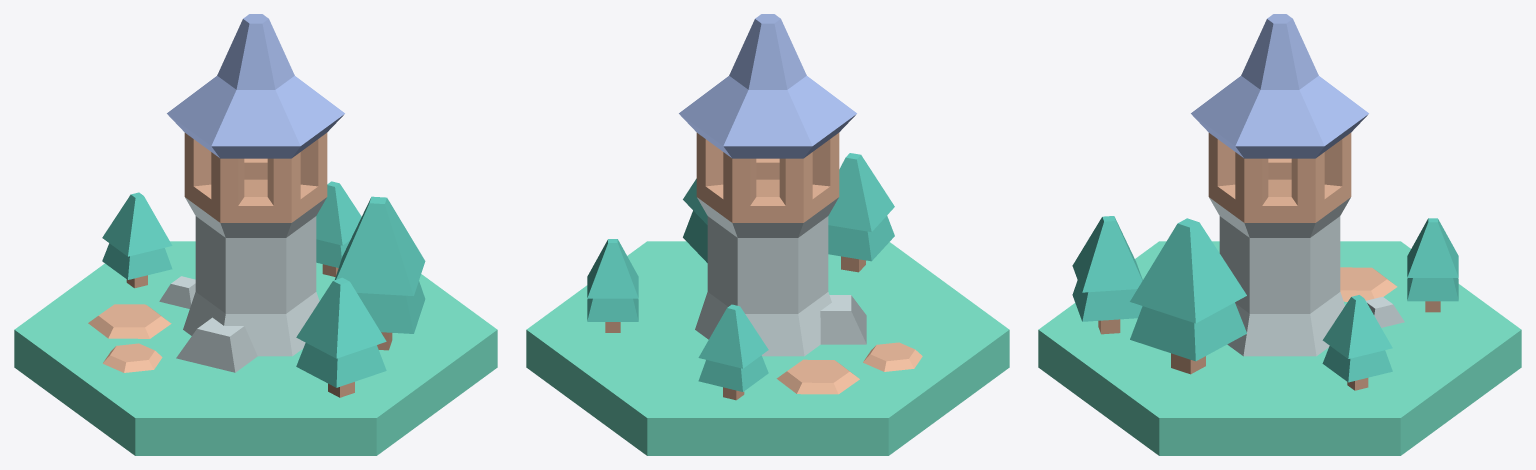
Rendered from Tower.fbx.
3 renders of one model, left to right at view 1: azimuth 30°, elevation 25°; view 2: azimuth 150°, elevation 25°; view 3: azimuth 270°, elevation 25°, orthographic.
Parts seen in each view (by area): view 1: building_tower; view 2: building_tower; view 3: building_tower.
Boxes of the visible parts, x1,y1,x2,y2 form: building_tower: (14,14,497,455); building_tower: (526,14,1009,455); building_tower: (1038,14,1521,455).
Size of the model in its own units: 100 by 92 by 115.
